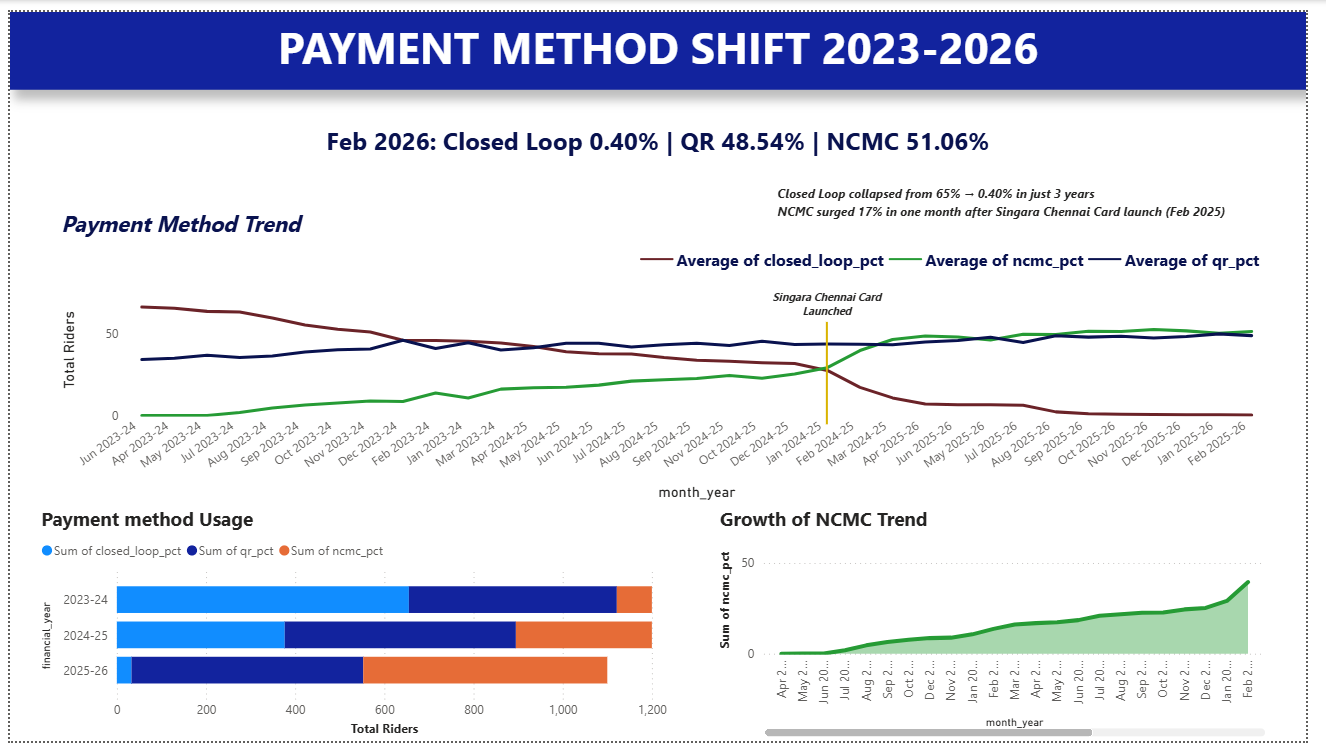

This screenshot's page, from the dashboard's own definition file:
{"tool":"powerbi","page":{"name":" Payment Analysis","canvas":[1280,720],"ordinal":1},"visuals":[{"type":"textbox","box":[0,0,1280.3,76.8],"z":0},{"type":"lineChart","title":"Payment Method Trend","fields":{"Category":["ridership_payments.month_year"],"Y":["Avg(ridership_payments.closed_loop_pct)","Avg(ridership_payments.ncmc_pct)","Avg(ridership_payments.qr_pct)"]},"box":[45.7,193.8,1198.8,293.8],"z":1000},{"type":"barChart","title":"Payment method Usage ","fields":{"Y":["Sum(ridership_payments.closed_loop_pct)","Sum(ridership_payments.qr_pct)","Sum(ridership_payments.ncmc_pct)"],"Category":["ridership_payments.financial_year"]},"box":[25.8,487.1,628.2,233.1],"z":2000},{"type":"lineChart","title":"Growth of NCMC Trend","fields":{"Category":["ridership_payments.month_year"],"Y":["Sum(ridership_payments.ncmc_pct)"]},"box":[695.7,487.1,548.5,233.1],"z":3000},{"type":"textbox","box":[0,106.7,1279.8,60.1],"z":4000},{"type":"shape","title":"Singara Chennai Card Launched","box":[750.6,274.1,112.3,133.3],"z":5001},{"type":"textbox","box":[753.1,164.2,491.4,58],"z":5002}]}

Visuals, with their boxes in screenshot pixels (x1, y1, x2, y2), scaled from the page's 1280x720 canvas onto the 1326x743 screenshot:
textbox: locate(0, 0, 1325, 79)
"Payment Method Trend" lineChart: locate(47, 200, 1289, 503)
"Payment method Usage " barChart: locate(27, 503, 678, 742)
"Growth of NCMC Trend" lineChart: locate(721, 503, 1289, 742)
textbox: locate(0, 110, 1325, 172)
"Singara Chennai Card Launched" shape: locate(778, 283, 894, 420)
textbox: locate(780, 169, 1289, 229)
